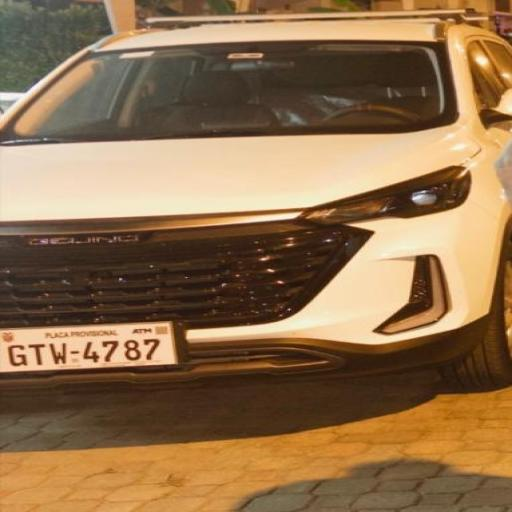license_plate: (0, 323, 177, 372)
